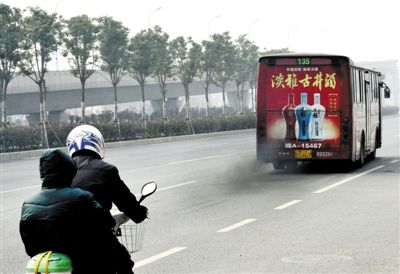smoke: (214, 152, 265, 199)
